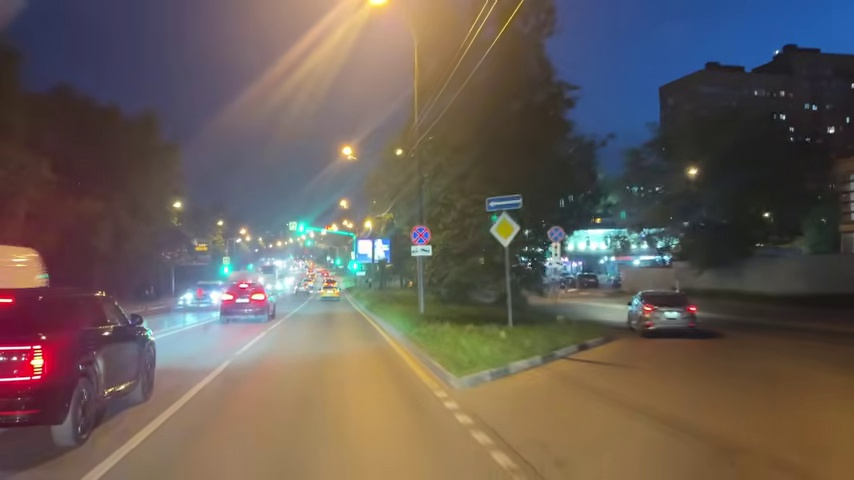acesa: (491, 217, 515, 246), (338, 141, 360, 163), (683, 163, 702, 182), (168, 196, 185, 217), (338, 198, 352, 212)
